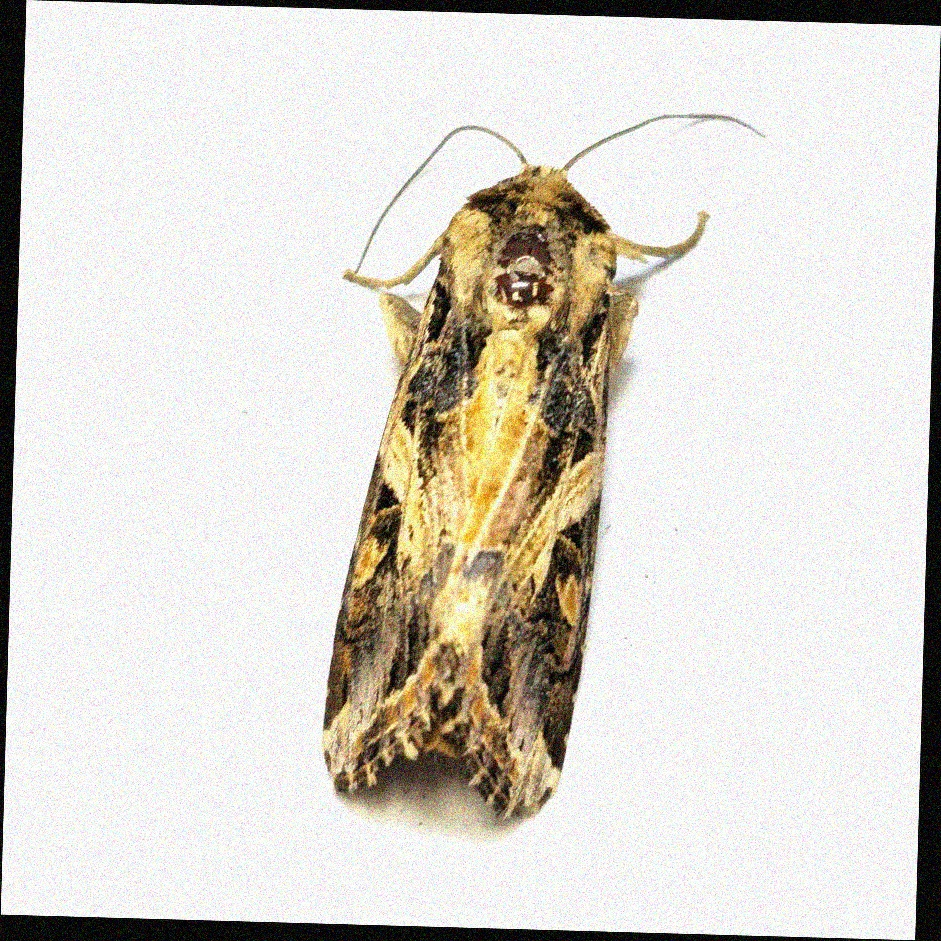Spodoptera litura: (328, 106, 760, 825)
